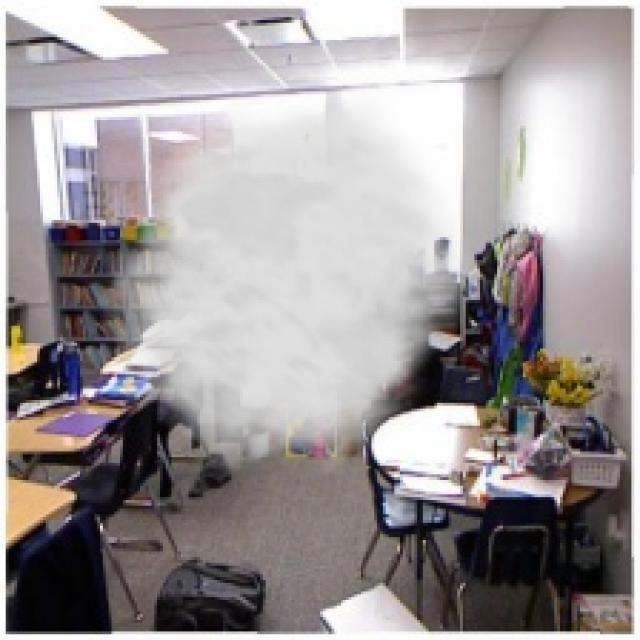Smoke: (91, 86, 480, 477)
